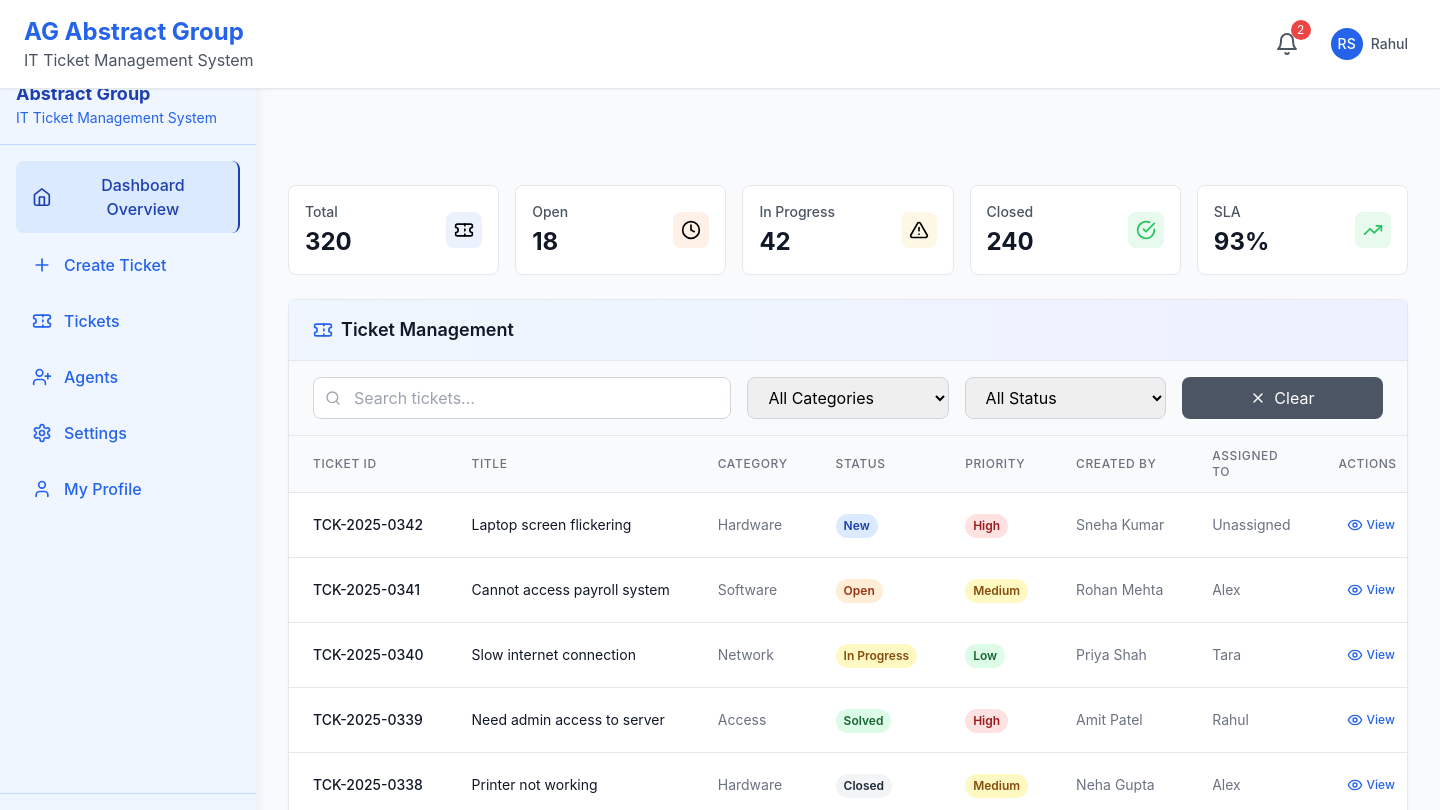
Scenario: ITPersonDashboard - Agents › edit button opens edit modal for an agent
This screenshot has width=1440, height=810.
Click the button "Agents" at (128, 377), box [16,353,240,401]
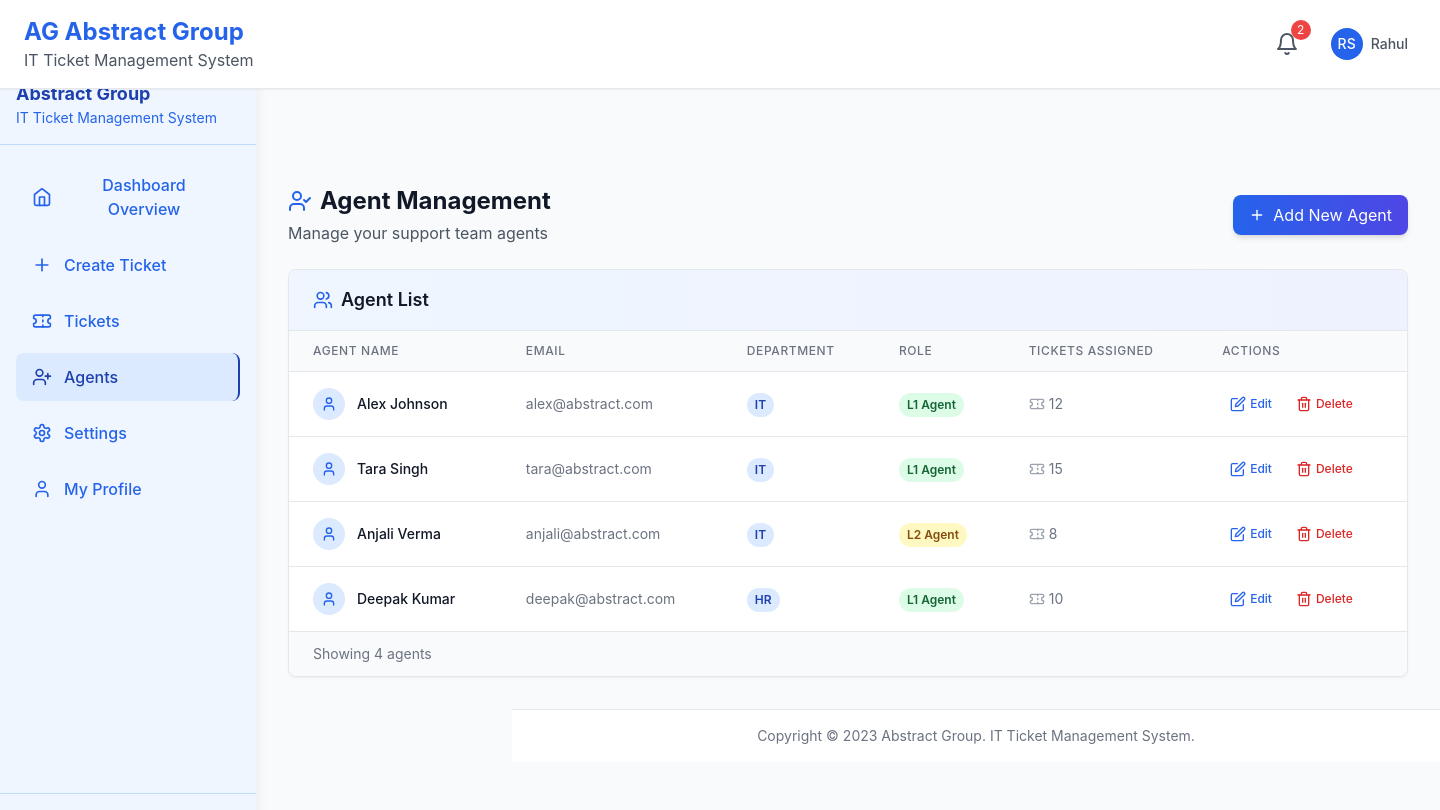
Click the button titled "Edit Agent" in the row of "Alex Johnson" at (1251, 404), box [1222,388,1280,420]
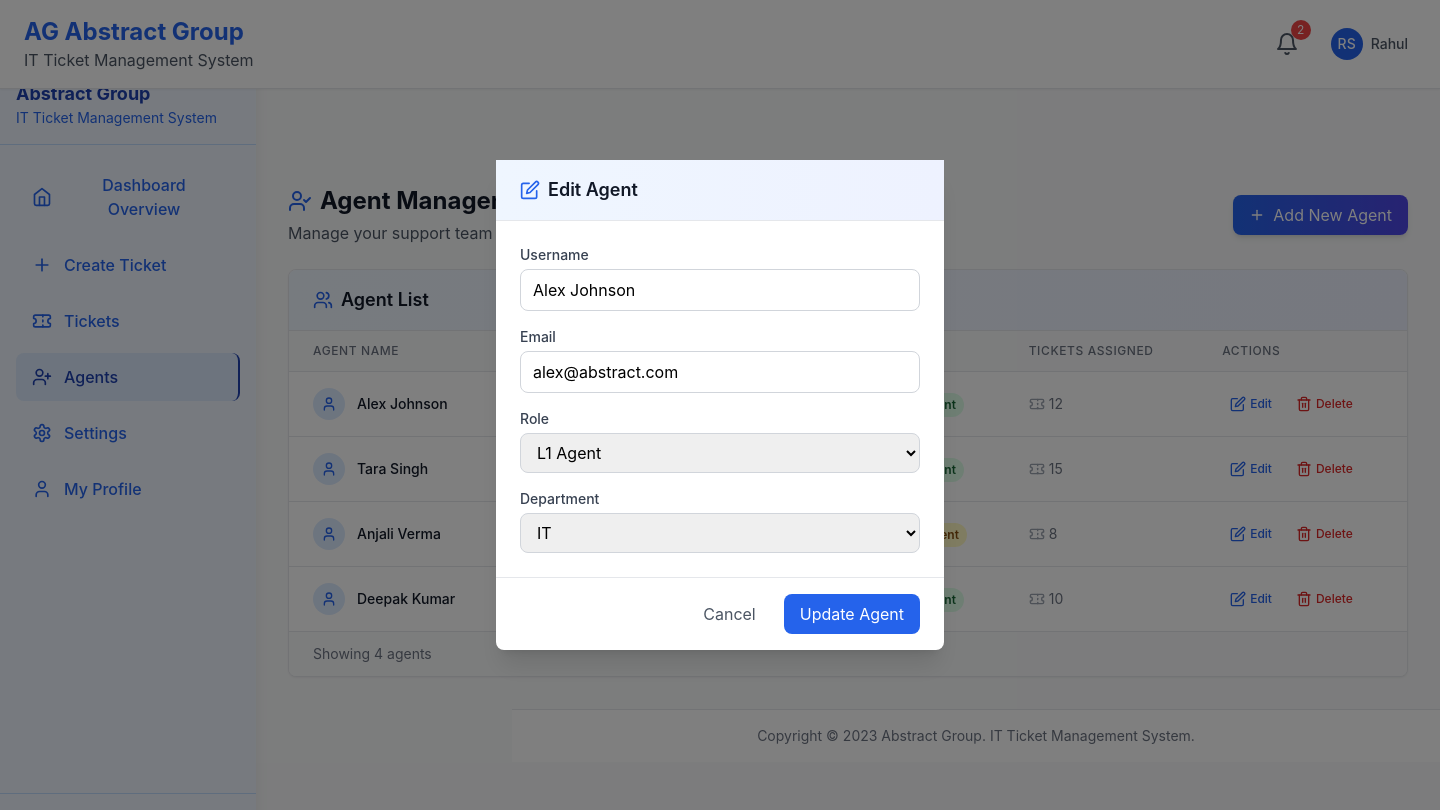
Check: the heading "Edit Agent" is shown, box [520,179,638,200]
